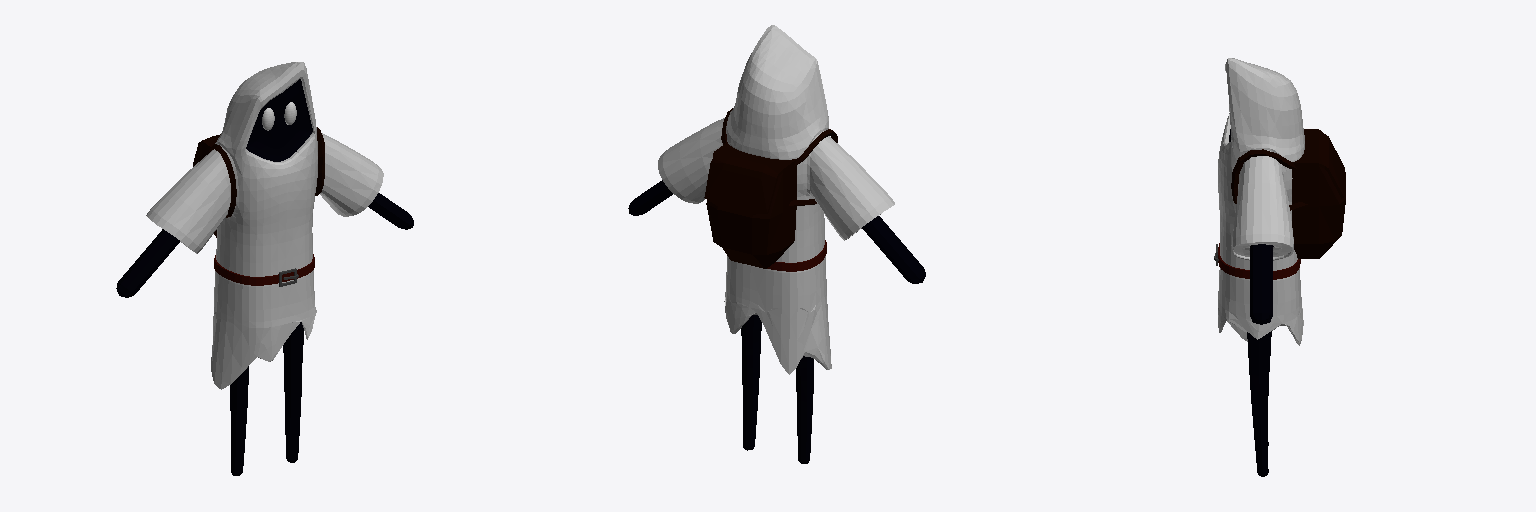
File: Brother.obj
The picture shows the model from 3 angles: view 1: azimuth 30°, elevation 25°; view 2: azimuth 150°, elevation 25°; view 3: azimuth 270°, elevation 25°; orthographic projection.
Parts seen in each view (by area): view 1: Cube.001, Cube.002_Cube.003; view 2: Cube.001, Cube.002_Cube.003; view 3: Cube.001, Cube.002_Cube.003.
Part boxes in pixels (left/top/right/bottom): Cube.001: left=116, top=62, right=413, bottom=475; Cube.002_Cube.003: left=193, top=127, right=324, bottom=237; Cube.001: left=628, top=25, right=925, bottom=463; Cube.002_Cube.003: left=704, top=108, right=837, bottom=268; Cube.001: left=1214, top=58, right=1304, bottom=476; Cube.002_Cube.003: left=1231, top=129, right=1345, bottom=258.
Bounding box in the file's own units: 7.04 × 9.41 × 2.74.